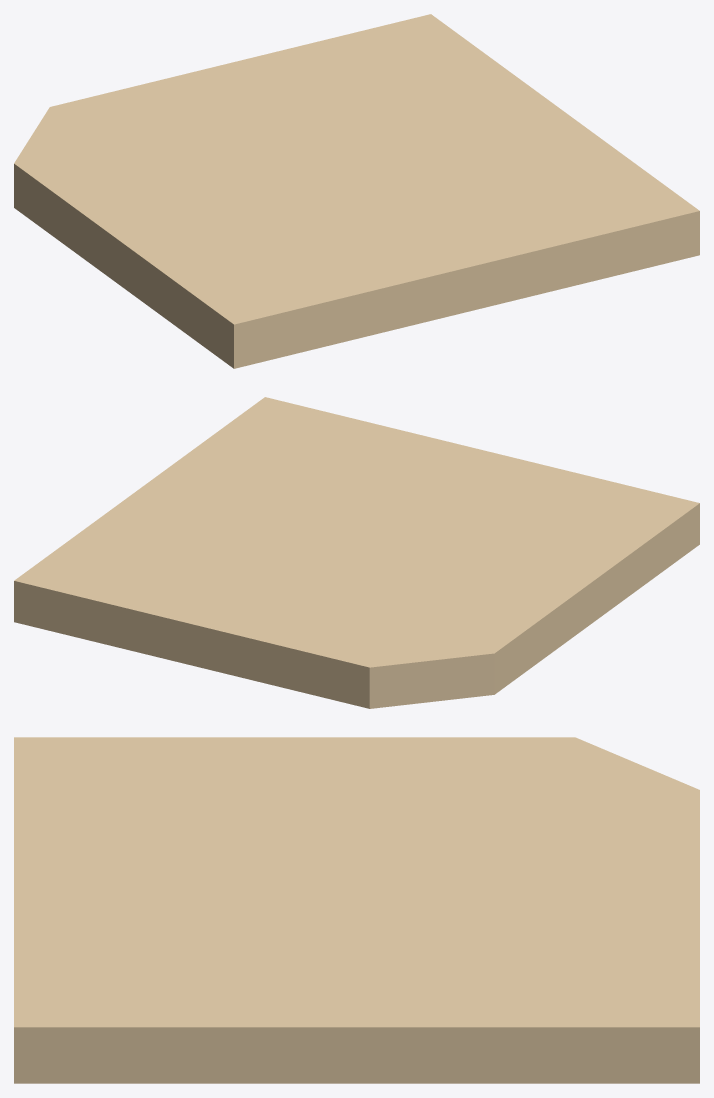
File: floorCorner.glb
The picture shows the model from 3 angles, top to bottom: view 1: azimuth 30°, elevation 25°; view 2: azimuth 150°, elevation 25°; view 3: azimuth 270°, elevation 25°; orthographic projection. The views are drawn at different scales.
Parts seen in each view (by area): view 1: floorCorner; view 2: floorCorner; view 3: floorCorner.
Part boxes in pixels (x1,y1,x2,y2): floorCorner: [14, 14, 699, 368]; floorCorner: [14, 397, 699, 708]; floorCorner: [14, 737, 699, 1083].
Bounding box in the file's own units: 5.5 × 0.5 × 5.5.
